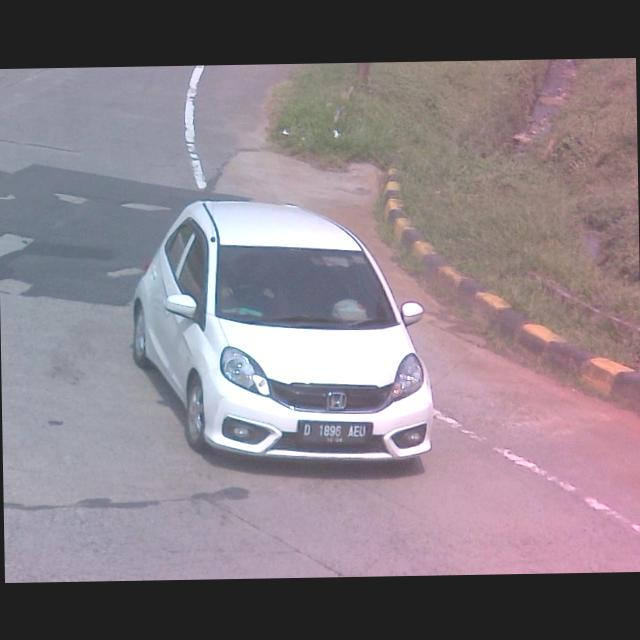plate: (296, 417, 372, 445)
